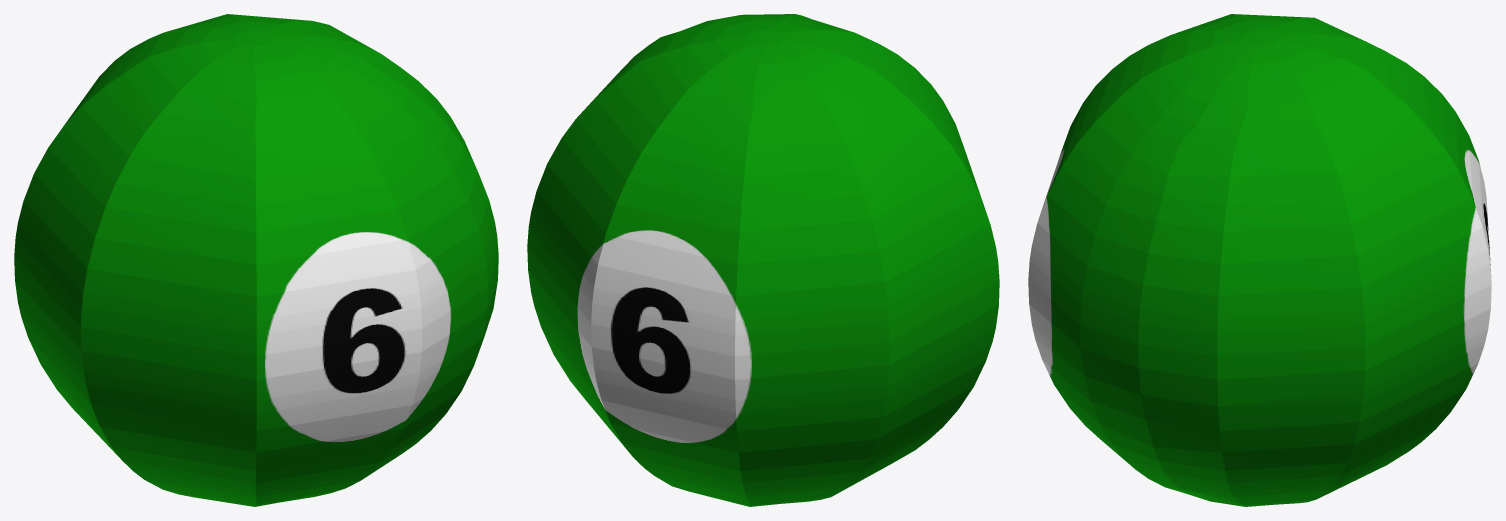
Rendered from 6Ball.fbx.
3 renders of one model, left to right at view 1: azimuth 30°, elevation 25°; view 2: azimuth 150°, elevation 25°; view 3: azimuth 270°, elevation 25°, orthographic.
Parts seen in each view (by area): view 1: Eight_Ball_eight_ball; view 2: Eight_Ball_eight_ball; view 3: Eight_Ball_eight_ball.
Boxes of the visible parts, x1=… form: Eight_Ball_eight_ball: x1=14, y1=14, x2=498, y2=506; Eight_Ball_eight_ball: x1=527, y1=14, x2=999, y2=506; Eight_Ball_eight_ball: x1=1028, y1=14, x2=1491, y2=506.
Size of the model in its own units: 0.3153 by 0.3281 by 0.3081.
